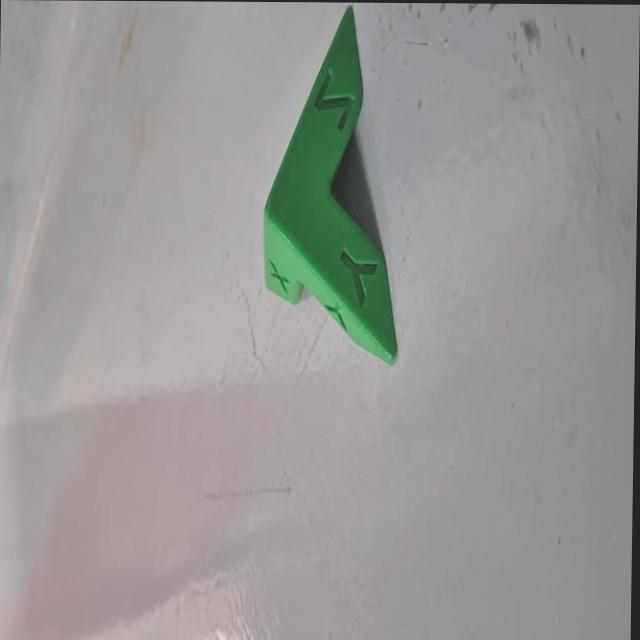eje: (256, 2, 408, 373)
